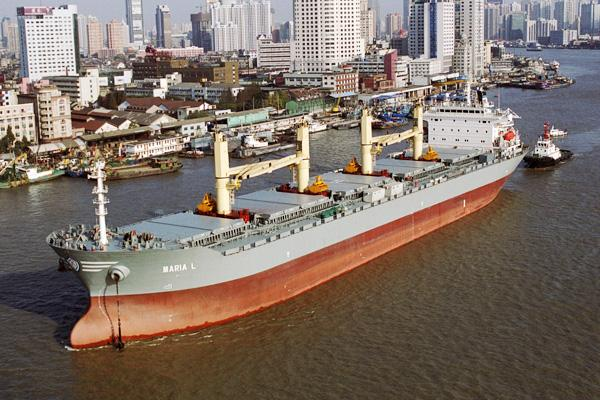Cargoship: (42, 56, 532, 356)
otherboat: (522, 129, 575, 173), (223, 130, 297, 161)
